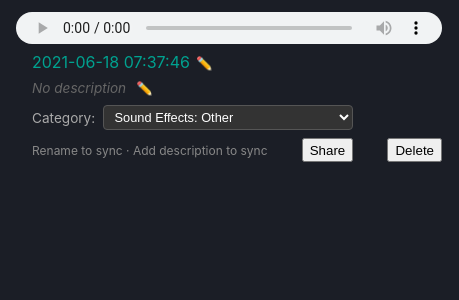
Test: Recording component › Inline description editing › clicking edit description button shows textarea with Save and Cancel buttons
What coordinates should you click on to do the following:
click the button named "click to edit description"
I would click on:
 (144, 88)
Its box is [130, 80, 159, 97].
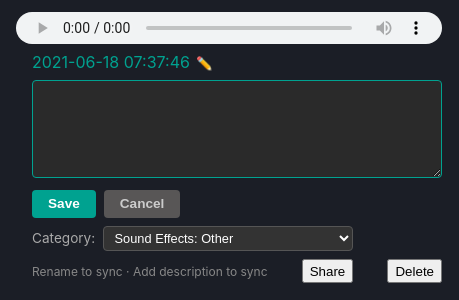
Result: the text box is shown at [32, 80, 442, 178]
Result: the button "Save" is shown at [32, 190, 96, 218]
Result: the button "Cancel" is shown at [104, 190, 180, 218]
